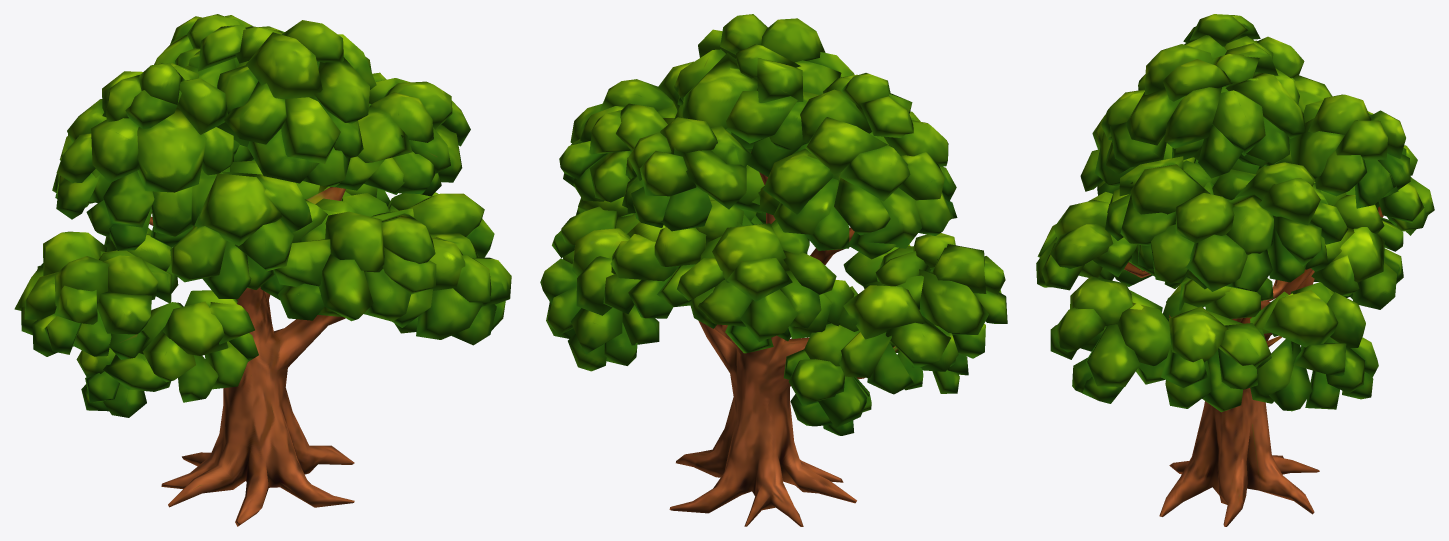
Rendered from tree-broadleaf.glb.
The picture shows the model from 3 angles, left to right: view 1: azimuth 30°, elevation 25°; view 2: azimuth 150°, elevation 25°; view 3: azimuth 270°, elevation 25°; orthographic projection. The views are drawn at different scales.
Parts seen in each view (by area): view 1: geometry_0; view 2: geometry_0; view 3: geometry_0.
Boxes of the visible parts, left/top/right/bottom form: geometry_0: left=14, top=14, right=511, bottom=526; geometry_0: left=540, top=14, right=1007, bottom=526; geometry_0: left=1036, top=14, right=1434, bottom=526.
Bounding box in the file's own units: 0.9831 × 0.9998 × 0.8131.
Materials: 1 (1 with a texture image).
